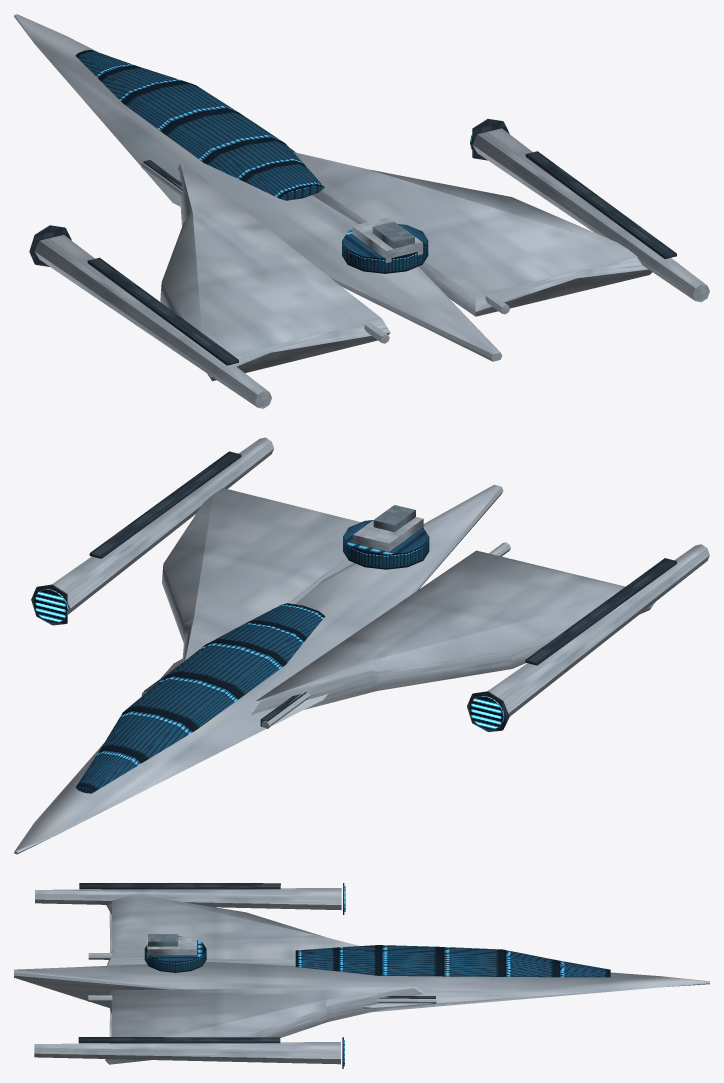
The model's file is alliance_courier_recreated_lod2.glb.
3 views of the same model, one above another, from view 1: azimuth 30°, elevation 25°; view 2: azimuth 150°, elevation 25°; view 3: azimuth 270°, elevation 25° (orthographic). The views are drawn at different scales.
Parts seen in each view (by area): view 1: alliance_courier_far_source; view 2: alliance_courier_far_source; view 3: alliance_courier_far_source.
Boxes of the visible parts, x1,y1,x2,y2 form: alliance_courier_far_source: (14,14,709,408); alliance_courier_far_source: (14,437,709,854); alliance_courier_far_source: (14,883,709,1068).
Size of the model in its own units: 0.4355 by 0.0896 by 0.7569.
Materials: 1 (1 with a texture image).
